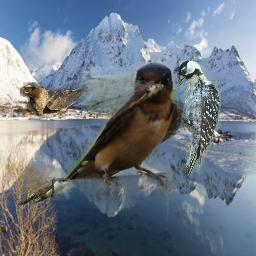Cuckoo: (16, 177, 70, 205)
Swallow: (64, 62, 183, 197), (20, 82, 88, 119)
Woodpecker: (177, 60, 221, 178)
